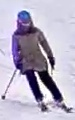skier: (0, 10, 74, 113)
